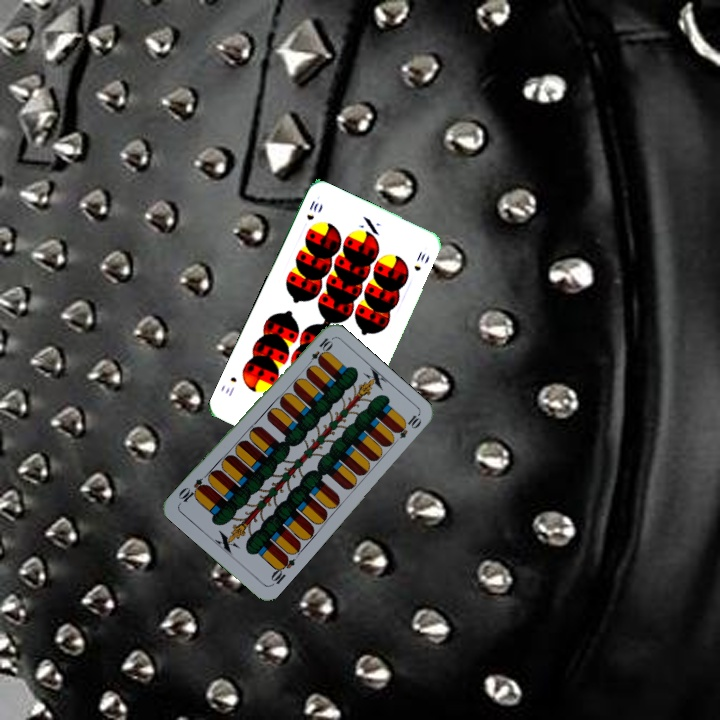E10: (266, 551, 298, 589), (303, 334, 335, 370)
S10: (302, 196, 321, 223)
